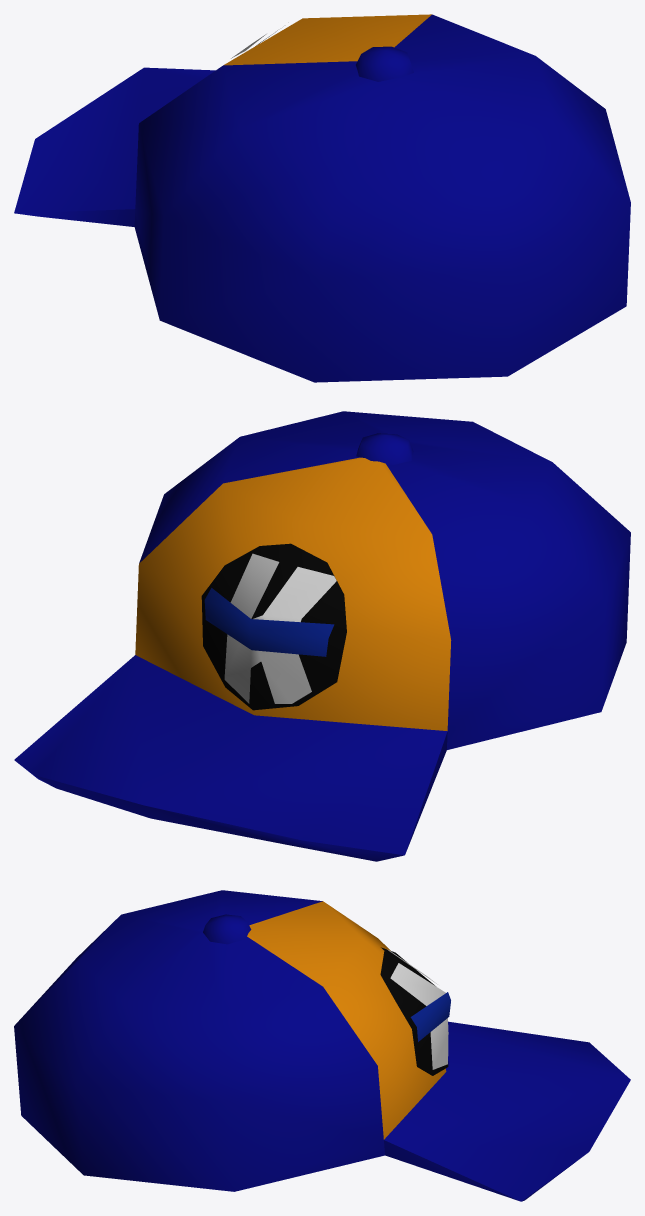
File: hat_kilzomatic.glb
The picture shows the model from 3 angles, top to bottom: view 1: azimuth 30°, elevation 25°; view 2: azimuth 150°, elevation 25°; view 3: azimuth 270°, elevation 25°; orthographic projection. The views are drawn at different scales.
Parts seen in each view (by area): view 1: hat_kilzomatic; view 2: hat_kilzomatic; view 3: hat_kilzomatic.
Part boxes in pixels (x1,y1,x2,y2): hat_kilzomatic: [14, 14, 630, 382]; hat_kilzomatic: [14, 411, 630, 861]; hat_kilzomatic: [14, 890, 630, 1201].
Size of the model in its own units: 0.401 by 0.2209 by 0.5788.
